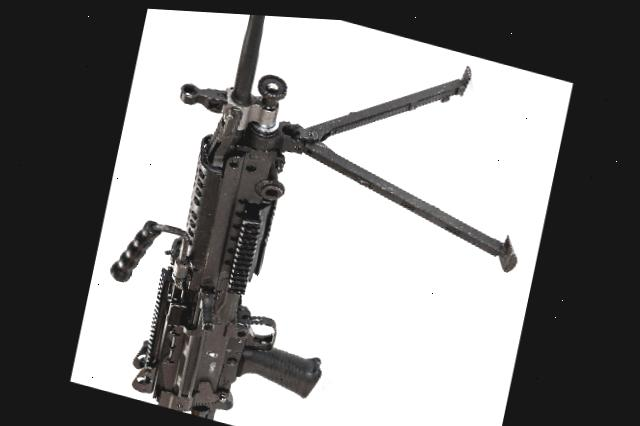rifle: (75, 3, 560, 426)
